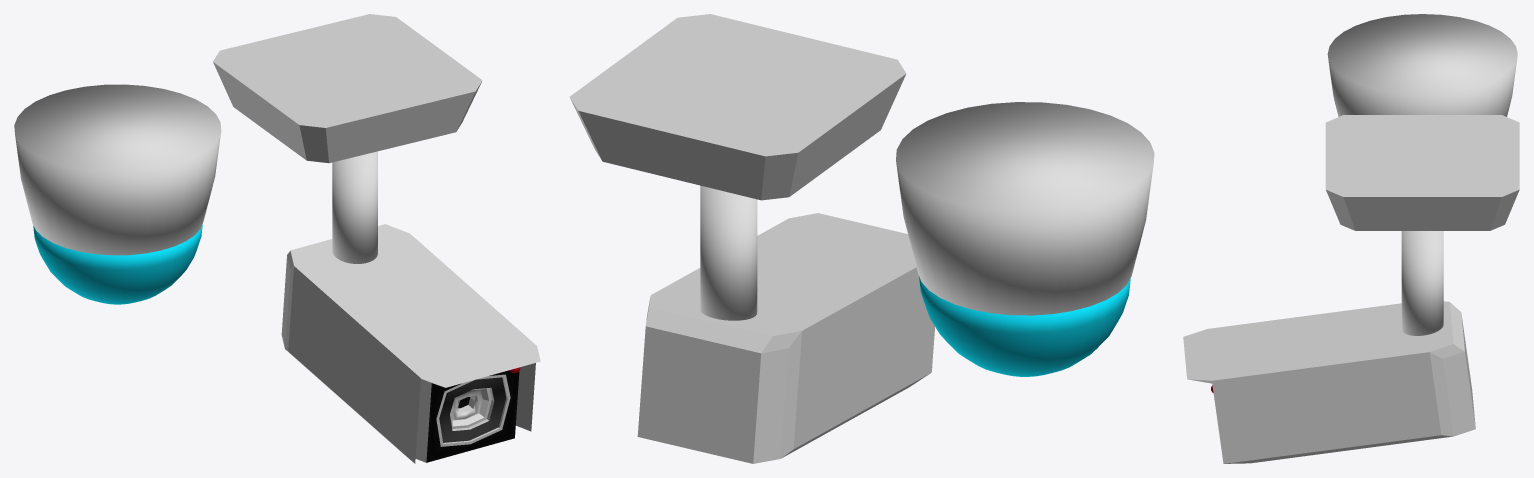
Rendered from securityCamera.fbx.
The picture shows the model from 3 angles, left to right: view 1: azimuth 30°, elevation 25°; view 2: azimuth 150°, elevation 25°; view 3: azimuth 270°, elevation 25°; orthographic projection. The views are drawn at different scales.
Visible parts, largest first — view 1: Cube.002, Cylinder, Cube; view 2: Cylinder, Cube.002, Cube; view 3: Cube.002, Cube, Cylinder.
Part boxes in pixels (box(x1,y1,x2,y2)): Cube.002: box(281, 224, 540, 463); Cylinder: box(14, 84, 221, 304); Cube: box(213, 14, 482, 263); Cylinder: box(896, 102, 1154, 376); Cube.002: box(637, 213, 934, 463); Cube: box(569, 14, 906, 320); Cube.002: box(1183, 301, 1475, 463); Cube: box(1325, 115, 1519, 335); Cylinder: box(1327, 14, 1517, 116).
Bounding box in the file's own units: 415 × 294 × 321.
